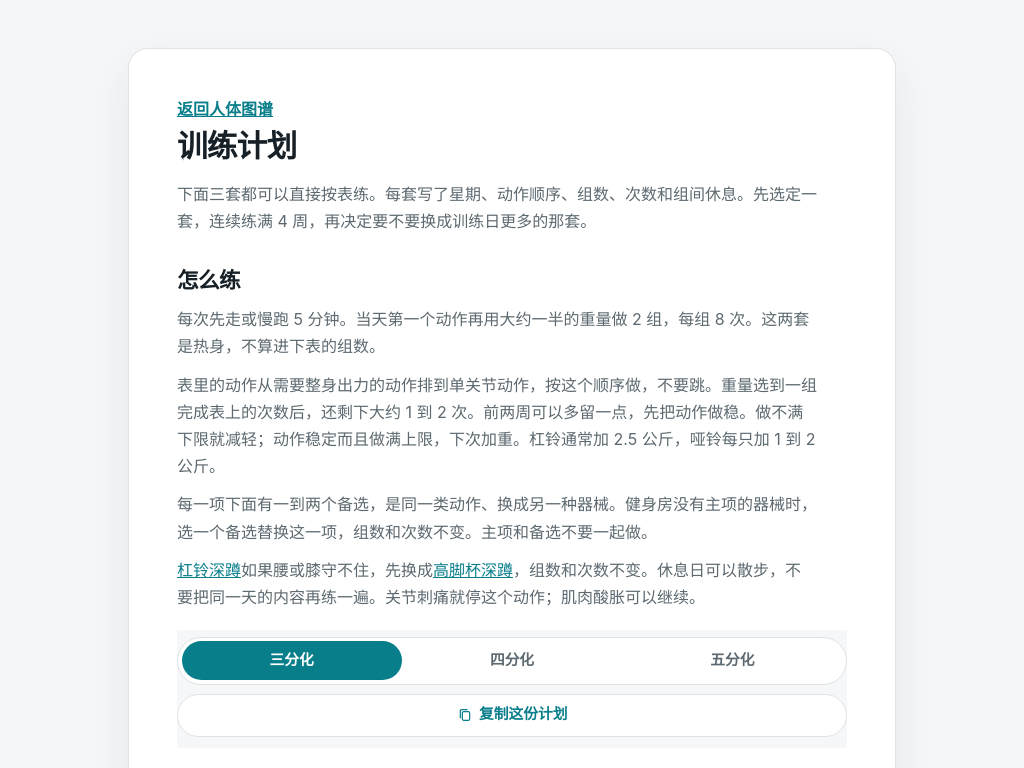
Test: App › explains the common training splits
The width and height of the screenshot is (1024, 768).
Expected: the heading "训练计划" is shown, x1=177 y1=127 x2=296 y2=164
Expected: the tab "三分化" is shown, x1=182 y1=642 x2=402 y2=680
Click the button "复制这份计划" at (512, 715), box x1=177 y1=694 x2=847 y2=737
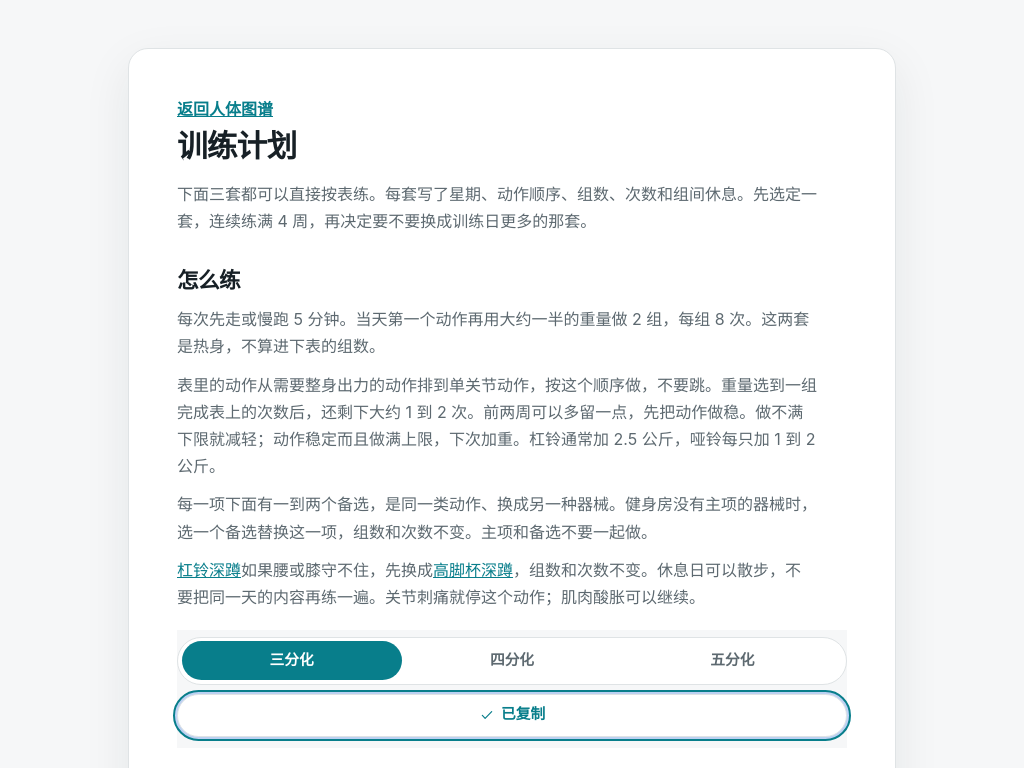
Expected: the button "已复制" is shown, x1=177 y1=694 x2=847 y2=737
Click the tab "四分化" at (512, 661), box x1=402 y1=642 x2=622 y2=680
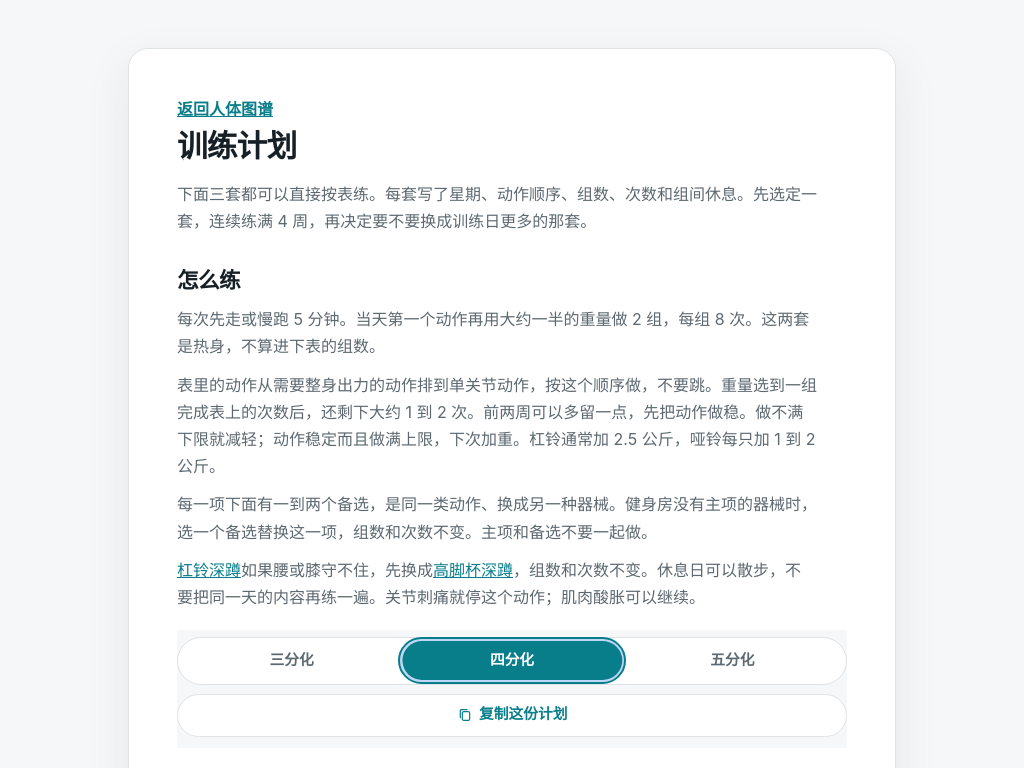
Click the button "复制这份计划" at (512, 715), box x1=177 y1=694 x2=847 y2=737
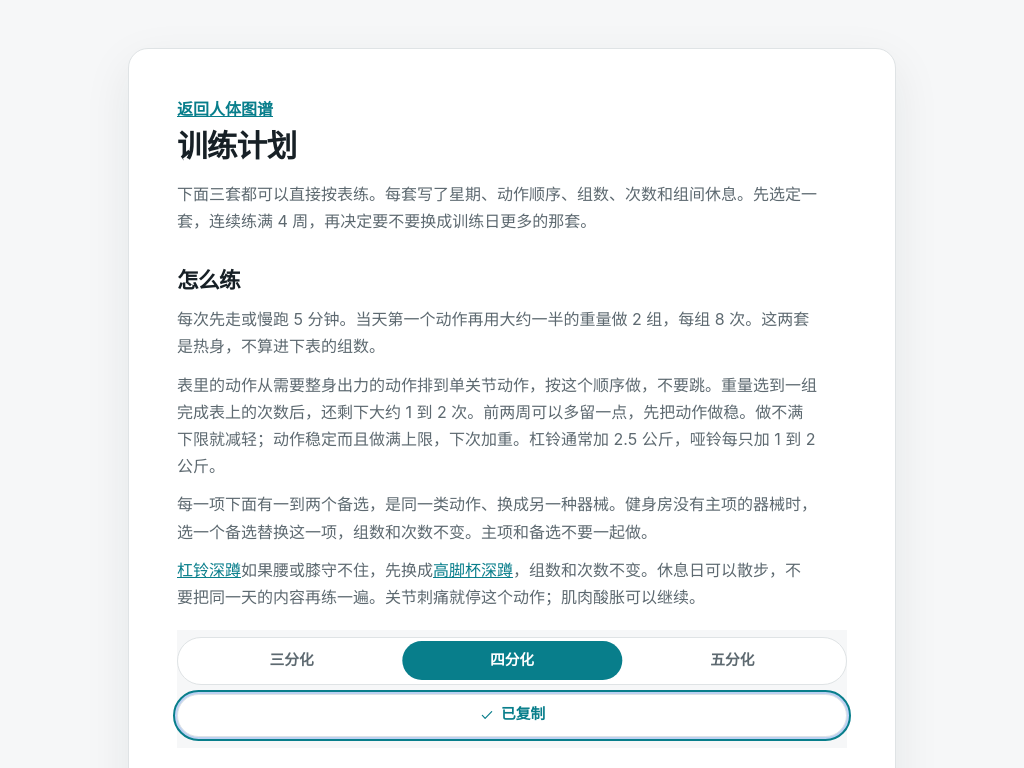
Expected: the button "已复制" is shown, x1=177 y1=694 x2=847 y2=737
Click the tab "五分化" at (732, 661), box x1=622 y1=642 x2=842 y2=680
(page scrolled)
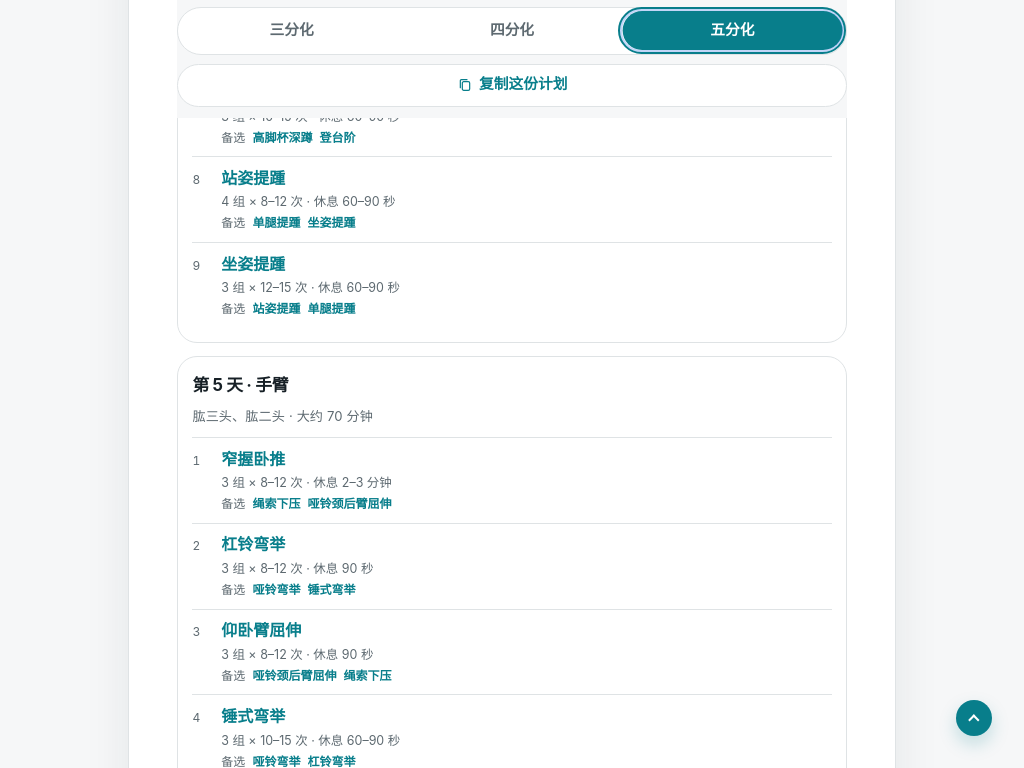
Expected: the heading "第 5 天 · 手臂" is shown, x1=192 y1=374 x2=288 y2=394
